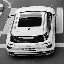motor: (12, 6, 39, 56)
